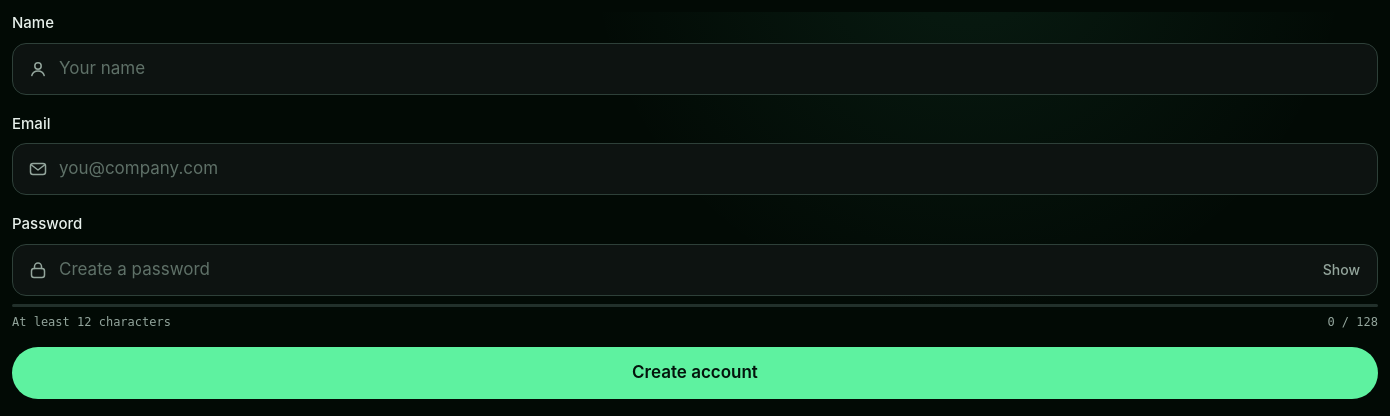
Scenario: RegisterForm › shows the live password rule and count as text
The image size is (1390, 416).
Expected: the text "At least 12 characters" is shown, [12,314,171,328]
Expected: the text "0 / 128" is shown, [1327,314,1378,328]
Type "twelve-chars" into the password field labelled "Password" at (695, 270), box [12,244,1378,296]
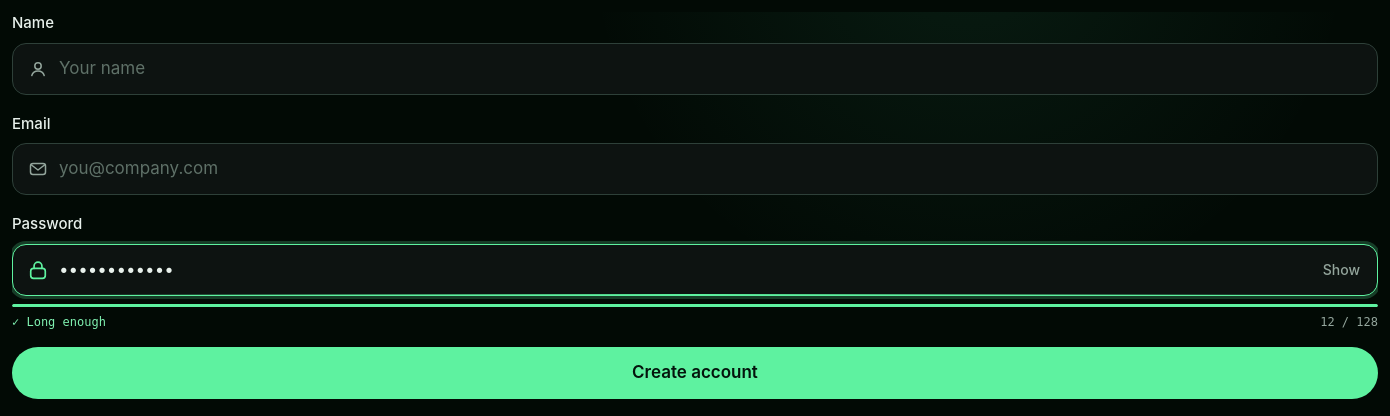
Expected: the text "✓ Long enough" is shown, [12,314,106,328]
Expected: the text "12 / 128" is shown, [1320,314,1378,328]
